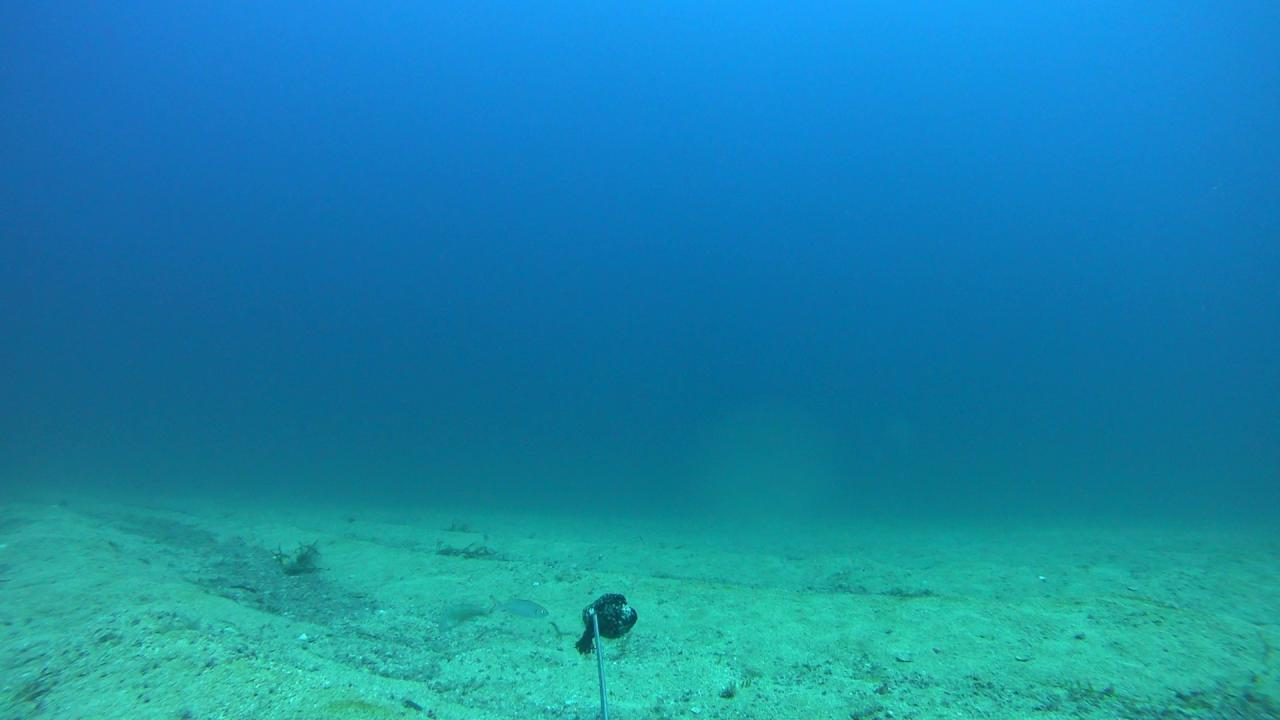pagellus: (488, 596, 548, 618)
